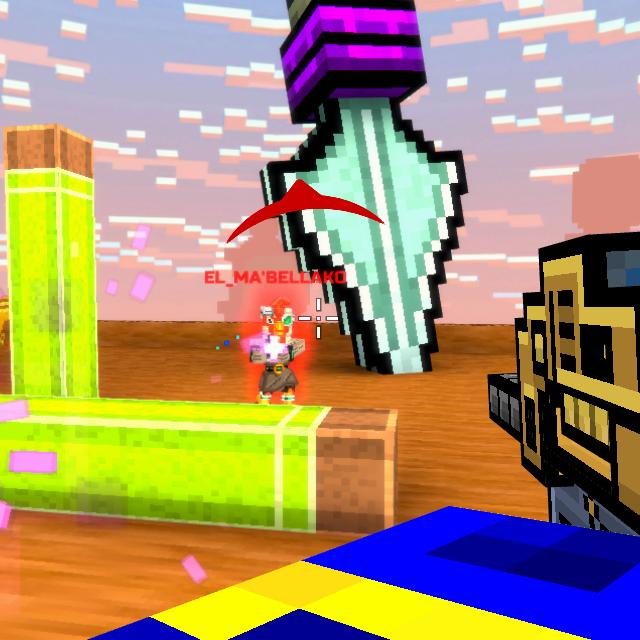Enemy: (249, 306, 305, 405)
